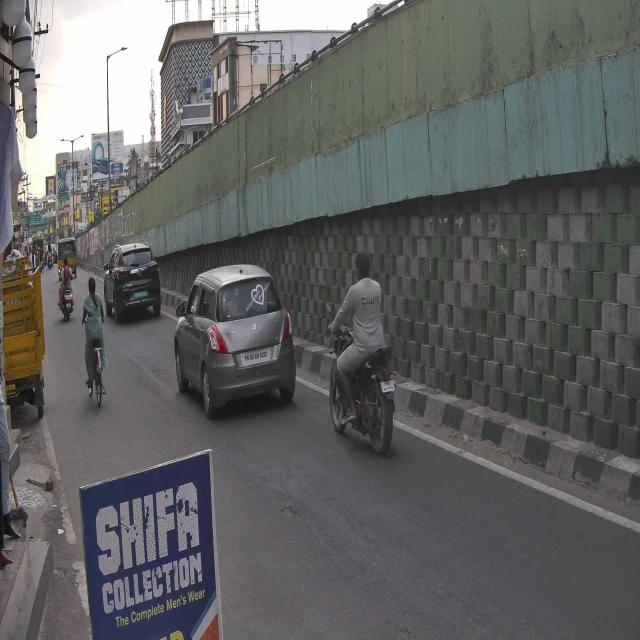single_rider: (324, 247, 401, 462)
